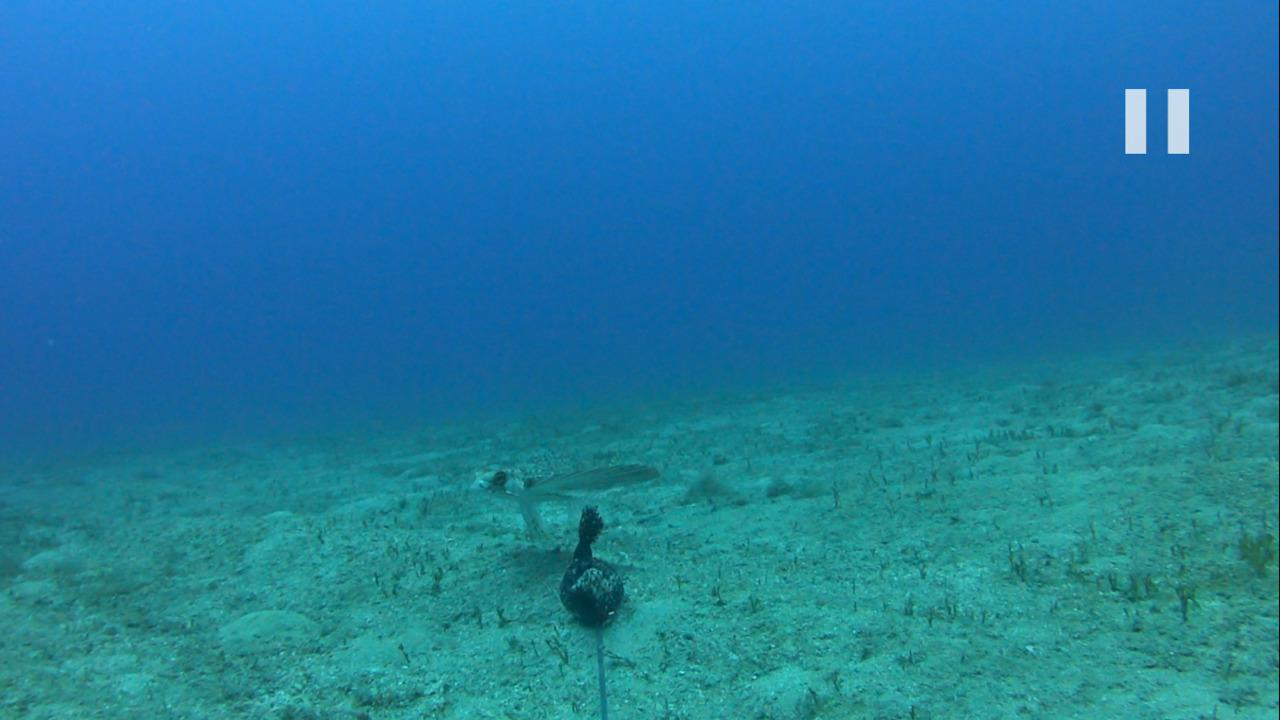dactylopterus: (470, 458, 665, 553)
